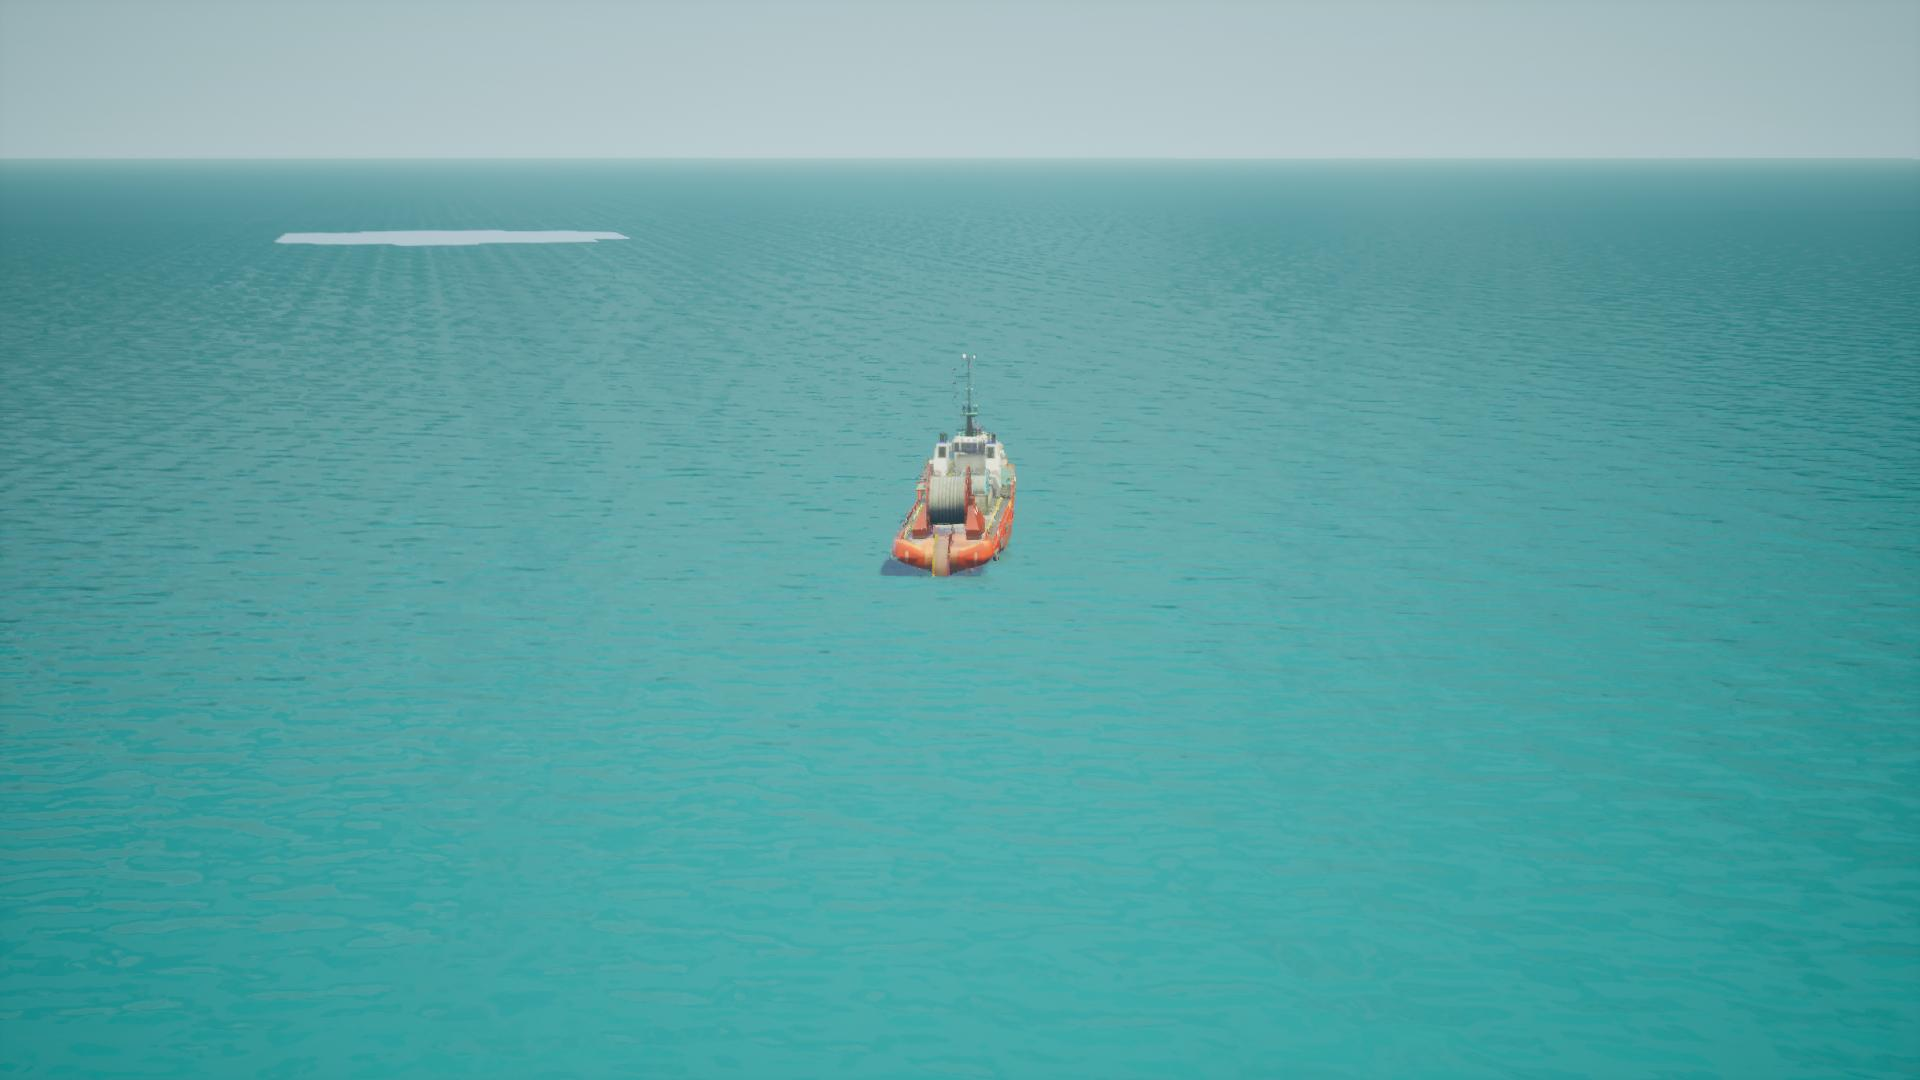Tug Boat: (889, 353, 1017, 582)
